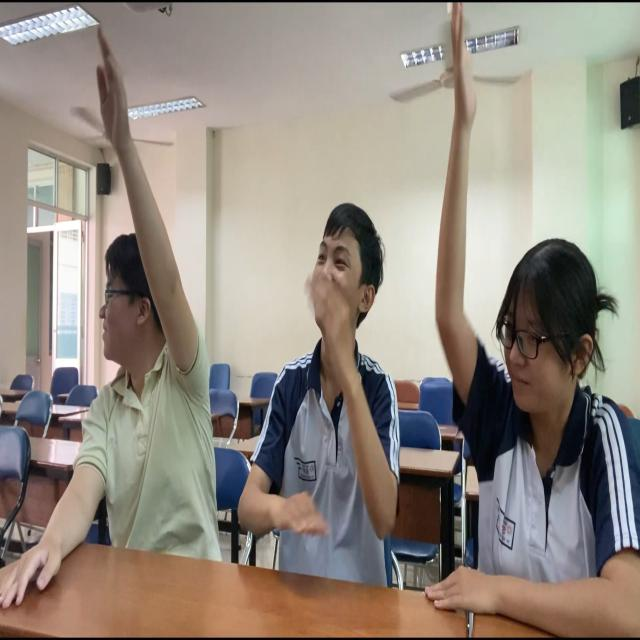raise_hand: (426, 3, 638, 640), (70, 26, 206, 588)
